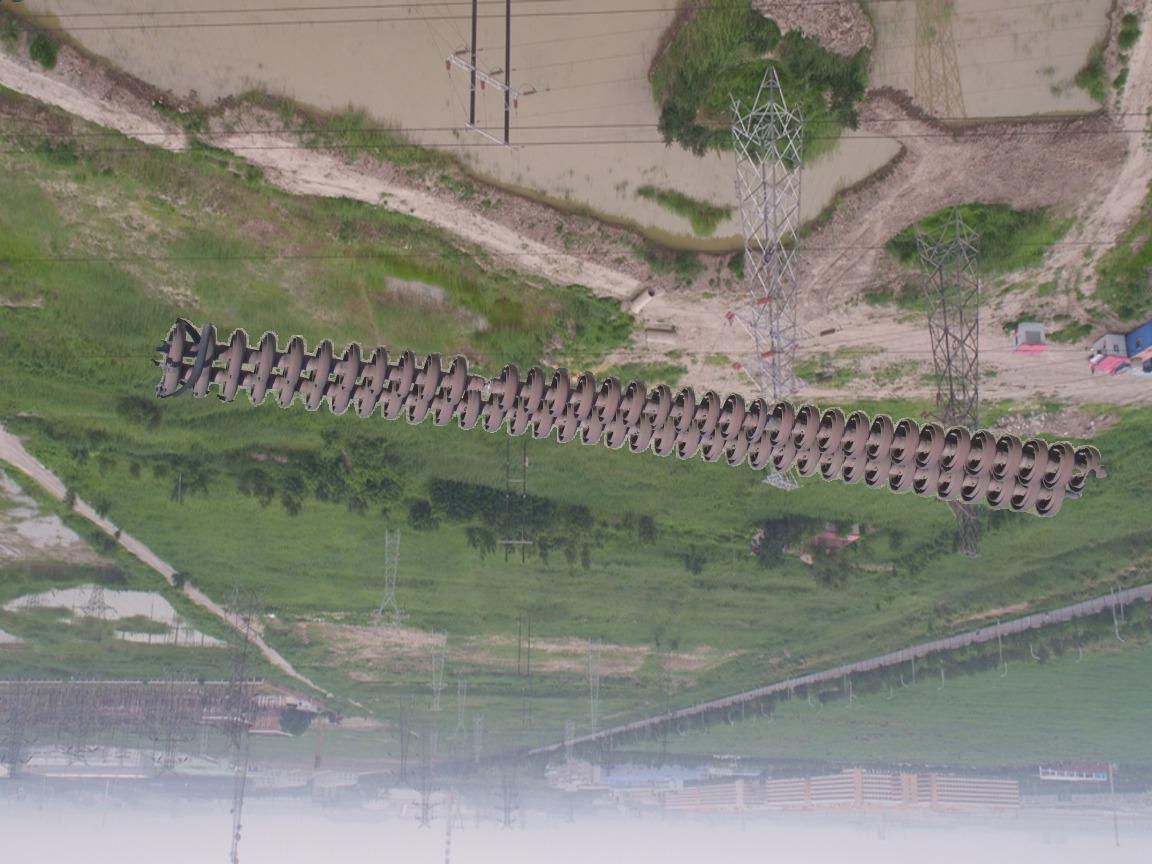insulator: (156, 317, 1115, 519)
insulator_stringdrop: (440, 352, 521, 414)
